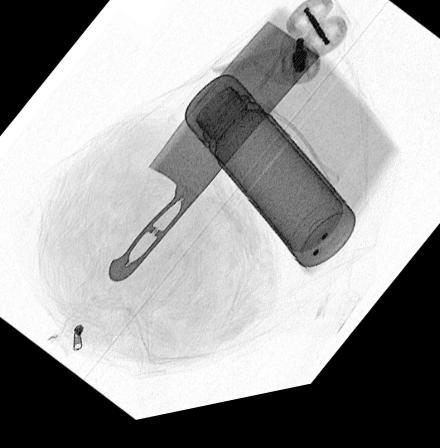Knife: (103, 29, 321, 289)
